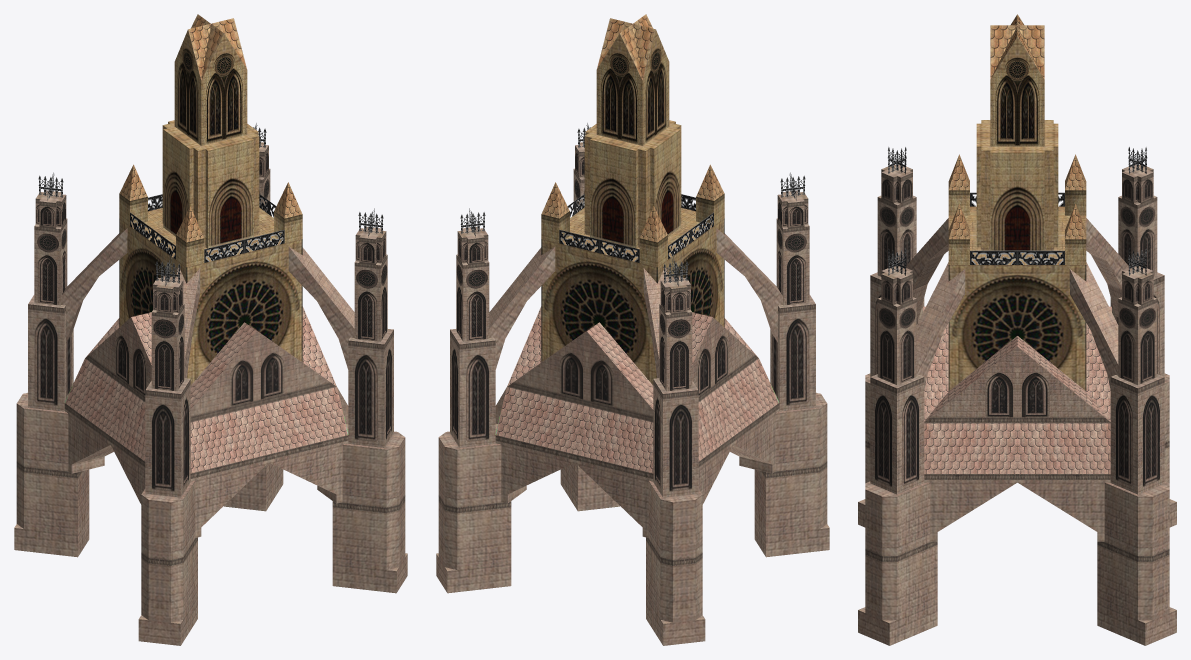
The model's file is Church.FBX.
The picture shows the model from 3 angles, left to right: view 1: azimuth 30°, elevation 25°; view 2: azimuth 150°, elevation 25°; view 3: azimuth 270°, elevation 25°; orthographic projection. The views are drawn at different scales.
Parts seen in each view (by area): view 1: Object011, Object012, Object013, Object014, Object010; view 2: Object011, Object012, Object013, Object014, Object010; view 3: Object012, Object011, Object013, Object014, Object010.
Part boxes in pixels (x1=…): Object011: x1=119, y1=14, x2=302, y2=385; Object012: x1=28, y1=123, x2=393, y2=497; Object013: x1=14, y1=392, x2=407, y2=645; Object014: x1=65, y1=306, x2=348, y2=473; Object010: x1=64, y1=403, x2=348, y2=537; Object011: x1=541, y1=14, x2=724, y2=385; Object012: x1=450, y1=123, x2=815, y2=497; Object013: x1=436, y1=392, x2=829, y2=645; Object014: x1=495, y1=306, x2=778, y2=473; Object010: x1=495, y1=403, x2=779, y2=537; Object012: x1=870, y1=147, x2=1164, y2=494; Object011: x1=948, y1=14, x2=1086, y2=390; Object013: x1=858, y1=373, x2=1176, y2=645; Object014: x1=923, y1=306, x2=1111, y2=473; Object010: x1=924, y1=474, x2=1110, y2=541.
Bounding box in the file's own units: 15.31 × 29.31 × 15.31.
